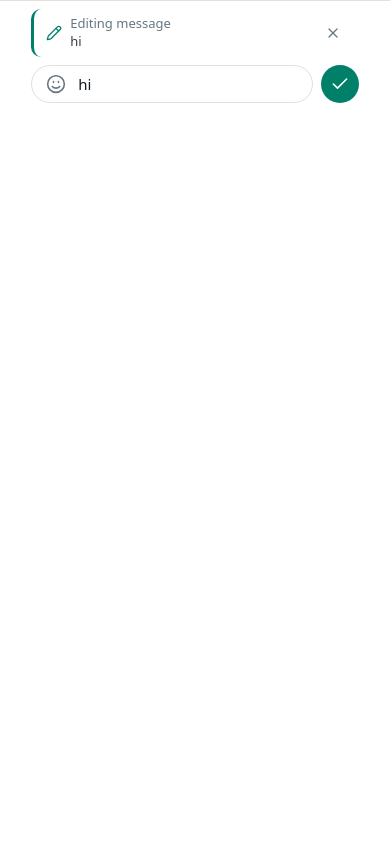
Test: Composer: emoji › inserts into the message being edited
Click the button named "Pick an emoji": (56, 84) top-left (38, 66), bottom-right (74, 102)
(page scrolled)
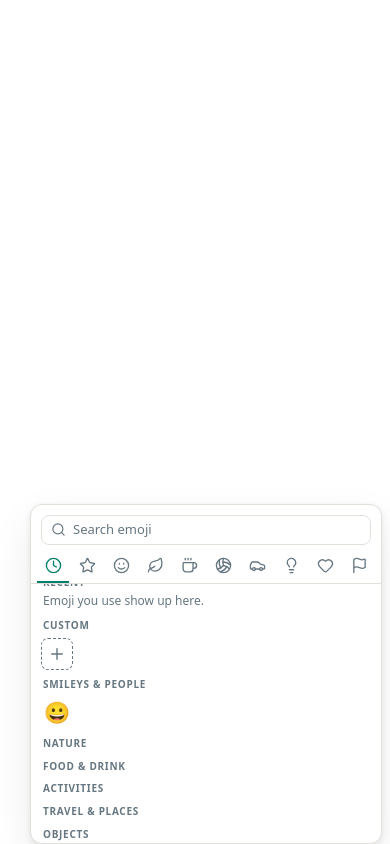
Click the button named "grinning face": (57, 713) top-left (39, 695), bottom-right (75, 731)
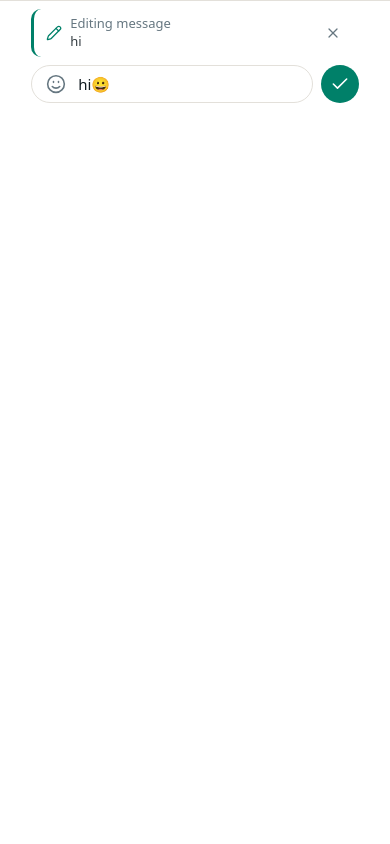
Now the text box named "Edit message" holds "hi😀", box top-left (78, 66), bottom-right (306, 102)
